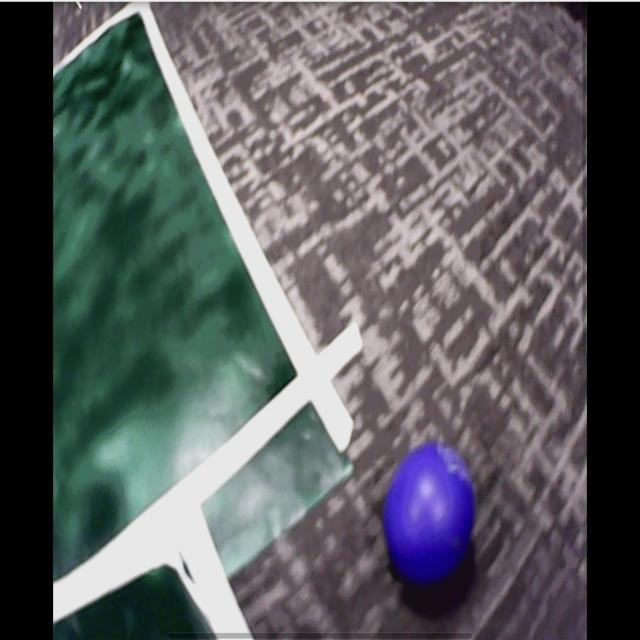ball: (387, 445, 477, 593)
